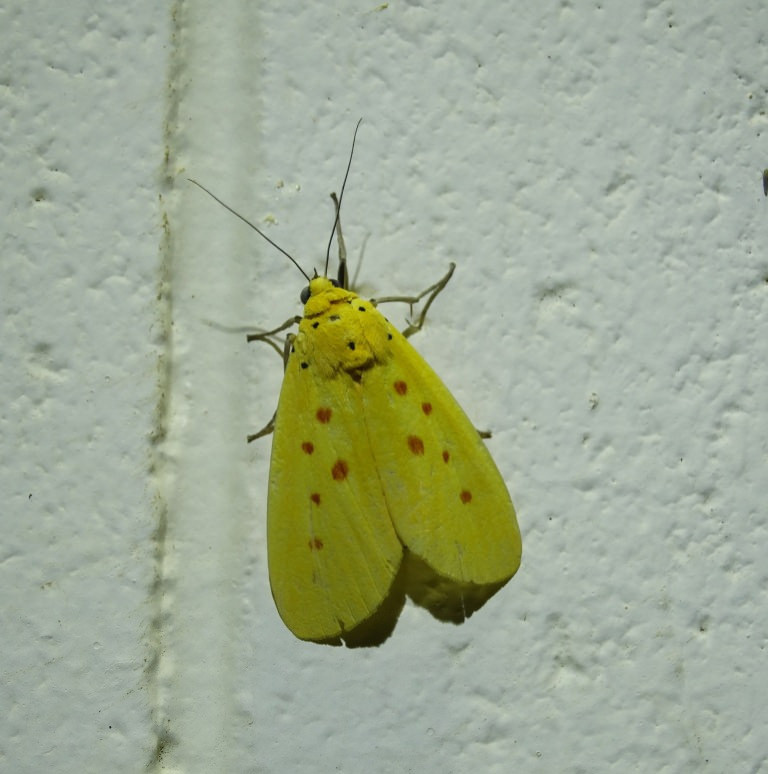Agape chloropyga: (190, 111, 530, 641)
moth: (187, 111, 527, 641)
